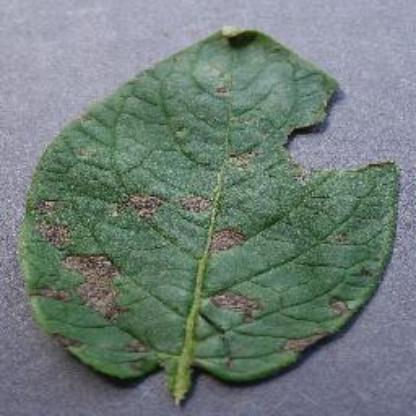Early-Blight: (20, 19, 402, 405)
